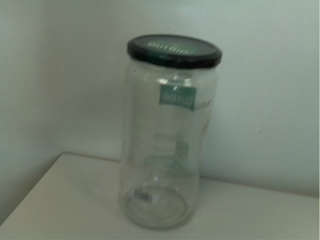pote cristal: (118, 33, 226, 234)
